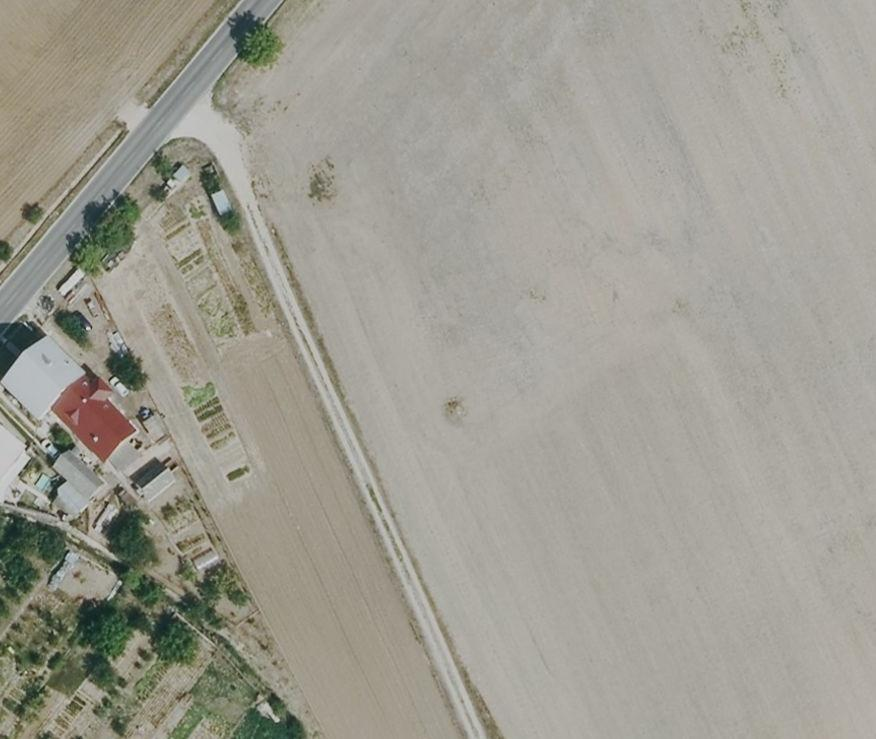field: (96, 2, 876, 737), (0, 0, 229, 244)
